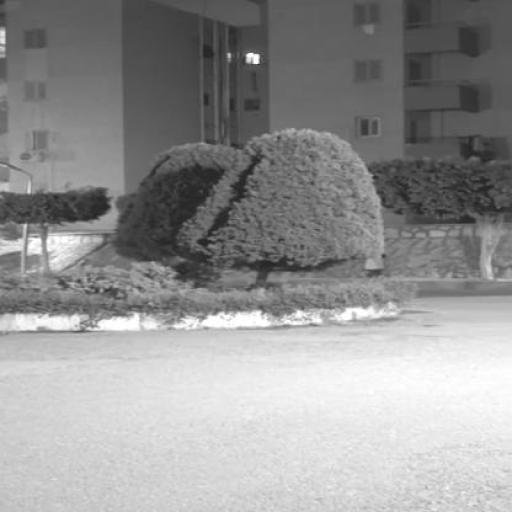street light: (1, 160, 37, 277)
